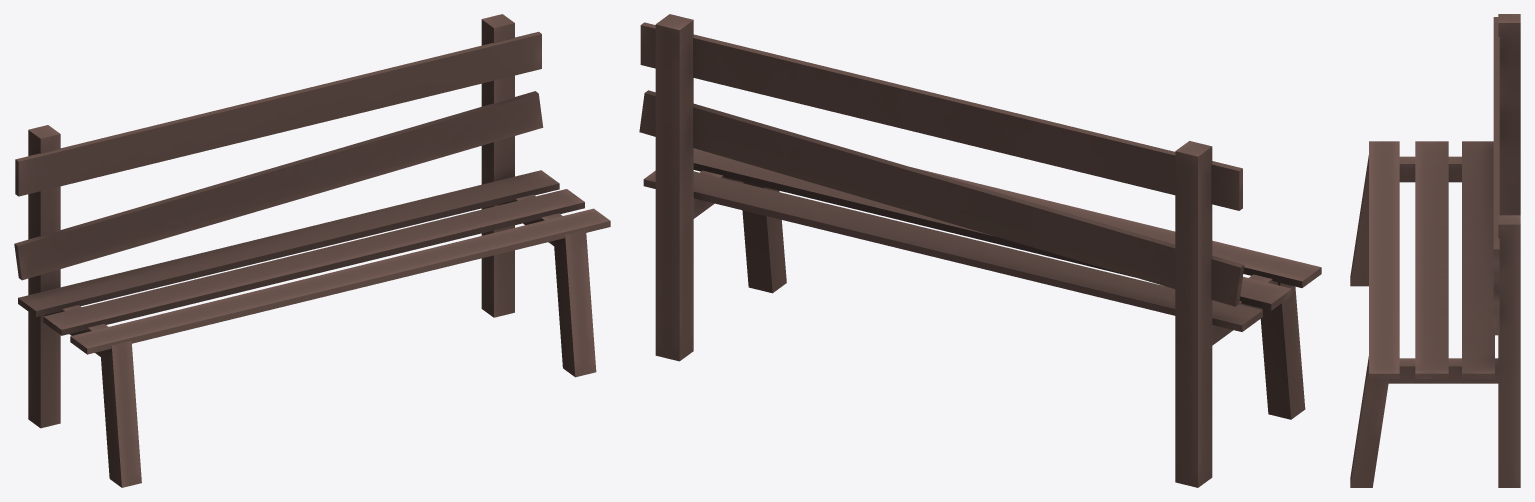
File: Bench_1.fbx
3 views of the same model, side by side, from view 1: azimuth 30°, elevation 25°; view 2: azimuth 150°, elevation 25°; view 3: azimuth 270°, elevation 25° (orthographic). The views are drawn at different scales.
Visible parts, largest first — view 1: Bench_1; view 2: Bench_1; view 3: Bench_1.
Boxes of the visible parts, x1,y1,x2,y2 form: Bench_1: (14, 14, 610, 487); Bench_1: (639, 14, 1321, 487); Bench_1: (1350, 14, 1520, 487).
Bounding box in the file's own units: 59.24 × 31.18 × 18.3.
